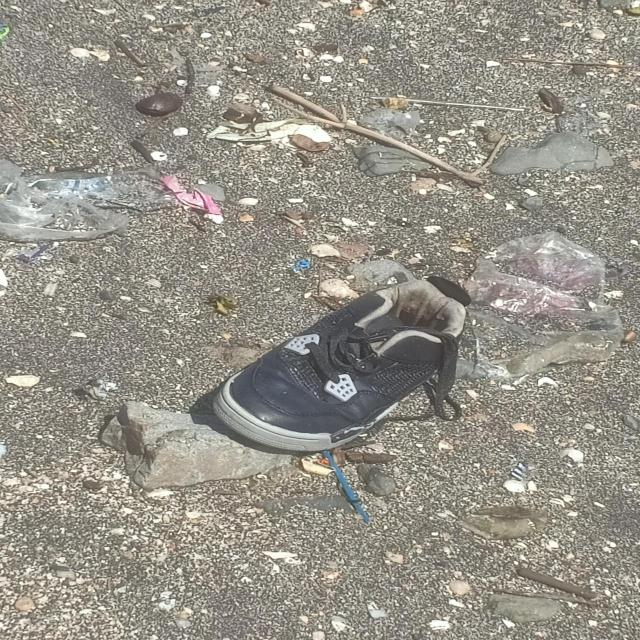plastic_waste: (460, 229, 627, 383), (1, 155, 155, 239)
rubber_waste: (213, 259, 468, 454)
